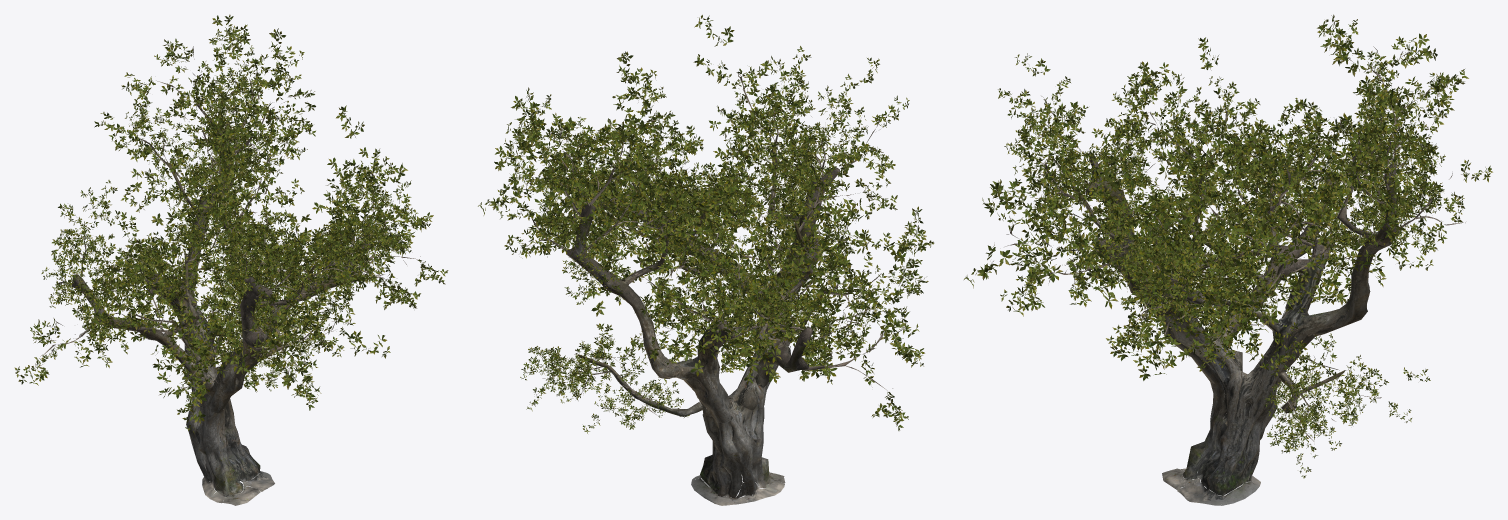
The model's file is island_tree_01.glb.
3 renders of one model, left to right at view 1: azimuth 30°, elevation 25°; view 2: azimuth 150°, elevation 25°; view 3: azimuth 270°, elevation 25°, orthographic. The views are drawn at different scales.
Parts seen in each view (by area): view 1: island_tree_01_LOD0; view 2: island_tree_01_LOD0; view 3: island_tree_01_LOD0.
Part boxes in pixels (x1,y1,x2,y2): island_tree_01_LOD0: (14,14,448,505); island_tree_01_LOD0: (478,15,934,505); island_tree_01_LOD0: (964,14,1492,505).
Size of the model in its own units: 4.76 by 5.03 by 4.82.
3 materials, 3 textured.
